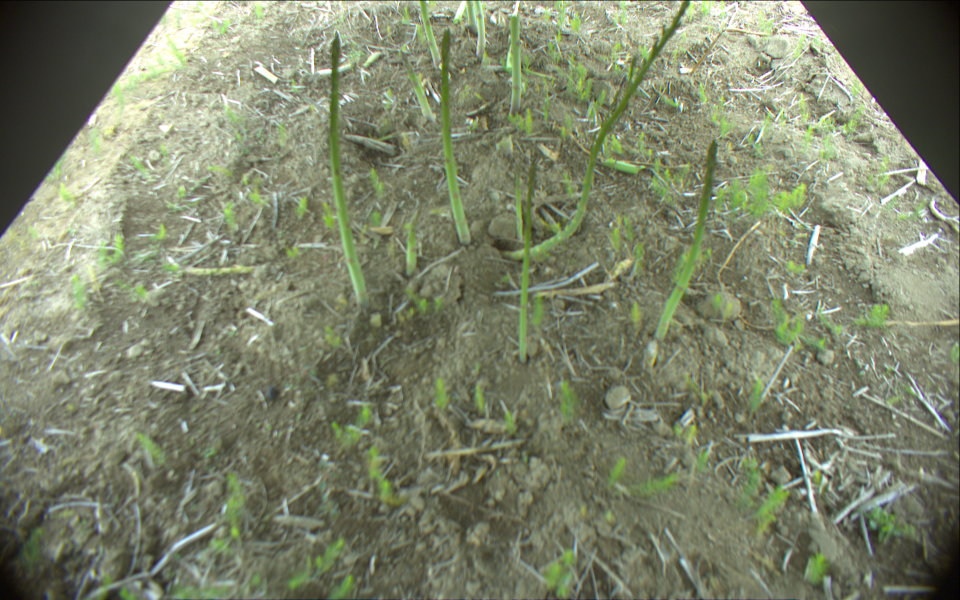aspa: (505, 1, 693, 261), (655, 138, 720, 342), (328, 29, 368, 303), (441, 27, 473, 246), (519, 153, 539, 364), (401, 51, 436, 118), (418, 1, 442, 66), (508, 14, 523, 116), (405, 203, 421, 276), (181, 263, 262, 276), (506, 1, 520, 71), (513, 163, 524, 240), (602, 158, 644, 176), (474, 1, 486, 60), (452, 1, 466, 24), (465, 1, 475, 29)
